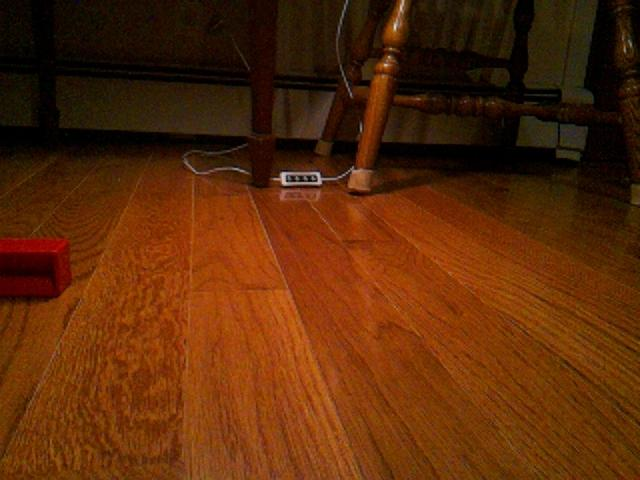red: (1, 235, 74, 300)
